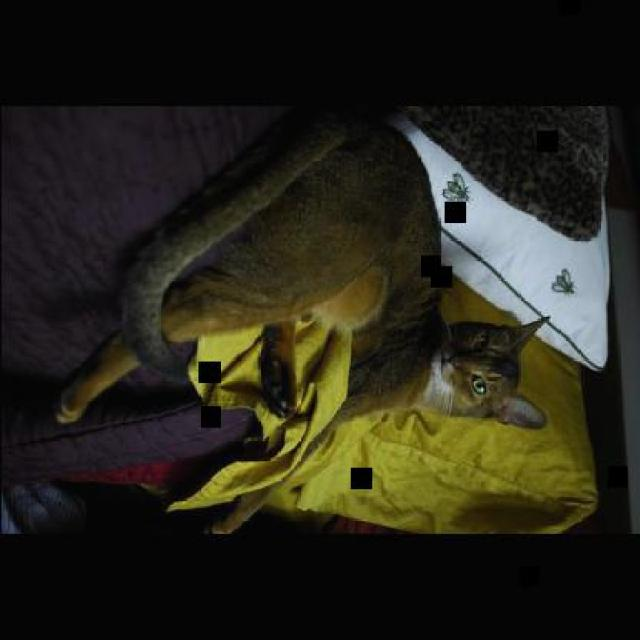unauthorized: (51, 103, 551, 431), (326, 300, 551, 431)
